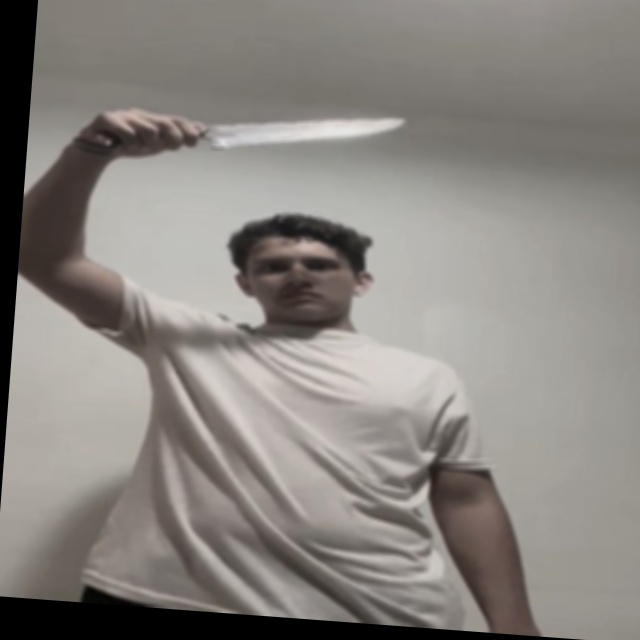Sharp-Object: (211, 104, 407, 160)
